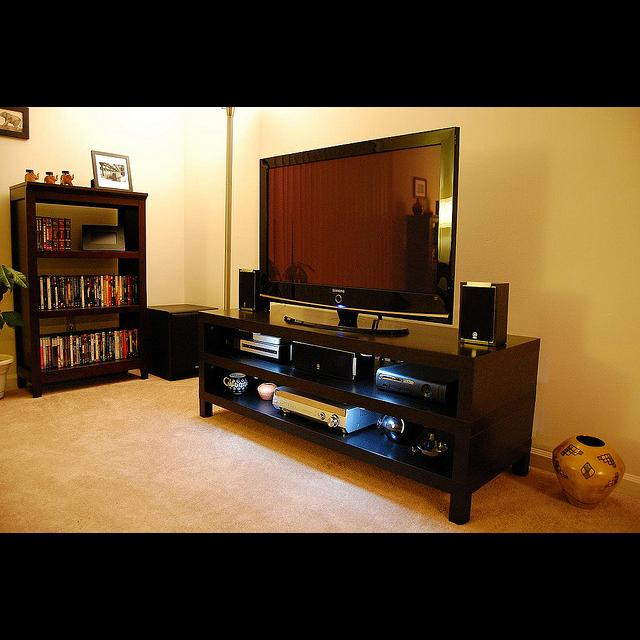Flat-Panel-TV: (259, 126, 460, 324)
